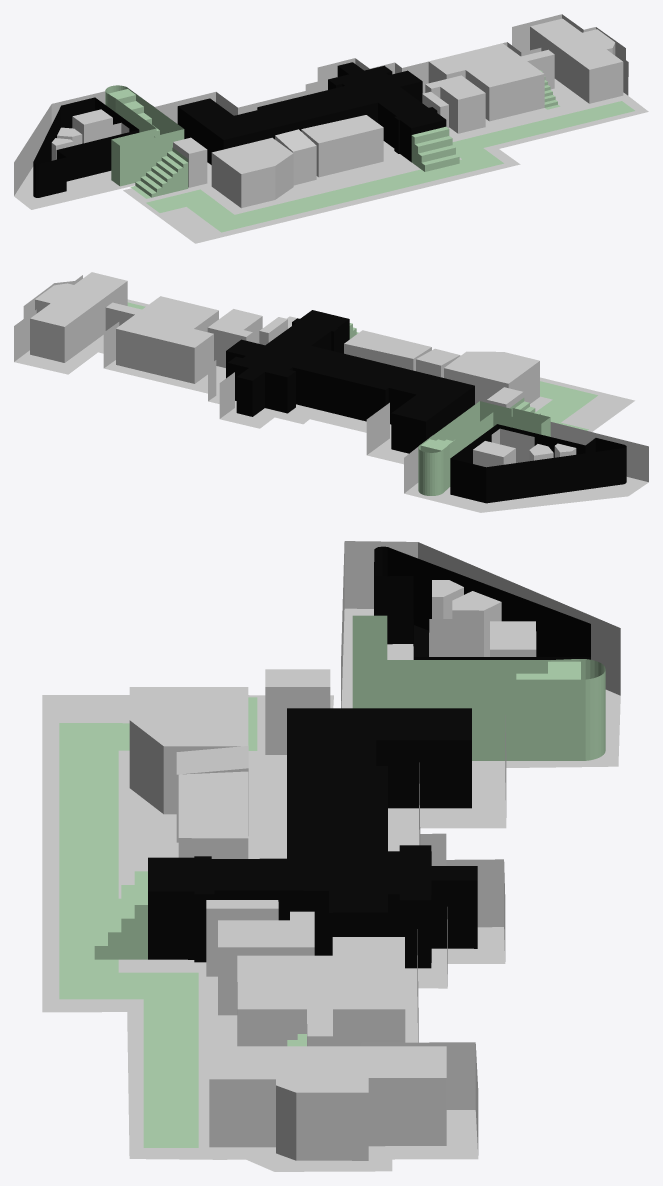
Rendered from basement.glb.
3 renders of one model, top to bottom at view 1: azimuth 30°, elevation 25°; view 2: azimuth 150°, elevation 25°; view 3: azimuth 270°, elevation 25°, orthographic. The views are drawn at different scales.
Visible parts, largest first — view 1: disk, ground, path, OFORTOD, CEAPMO, GSO, Traingle, Stairs, BA, COUNCILOR, Cube.003, Cube.001 (+6 smaller); view 2: ground, disk, Traingle, OFORTOD, CEAPMO, Stairs, GSO, BA, COUNCILOR, path, DAYCARE, SPORTS (+3 smaller); view 3: disk, ground, path, CEAPMO, Stairs, OFORTOD, GSO, Traingle, BA, COUNCILOR, Cube.003, PWD (+6 smaller).
Boxes of the visible parts, box(x1,y1,x2,y2) form: disk: box(14, 14, 648, 243); ground: box(177, 62, 446, 164); path: box(146, 101, 634, 232); OFORTOD: box(428, 43, 554, 121); CEAPMO: box(530, 18, 623, 103); GSO: box(211, 137, 293, 208); Traingle: box(33, 97, 139, 197); Stairs: box(105, 85, 184, 186); BA: box(301, 115, 383, 177); COUNCILOR: box(425, 75, 485, 133); Cube.003: box(411, 126, 462, 174); Cube.001: box(130, 147, 188, 198); ground: box(226, 310, 474, 453); disk: box(14, 275, 648, 512); Traingle: box(450, 424, 626, 503); OFORTOD: box(105, 296, 218, 383); CEAPMO: box(30, 272, 127, 362); Stairs: box(418, 401, 550, 495); GSO: box(444, 351, 539, 404); BA: box(344, 330, 431, 370); COUNCILOR: box(207, 309, 262, 367); path: box(127, 302, 597, 430); DAYCARE: box(473, 441, 515, 467); SPORTS: box(491, 428, 534, 462); disk: box(42, 541, 620, 1171); ground: box(148, 708, 477, 968); path: box(59, 697, 257, 1147); CEAPMO: box(209, 1046, 446, 1160); Stairs: box(352, 615, 605, 760); OFORTOD: box(237, 937, 405, 1046); GSO: box(129, 687, 248, 814); Traingle: box(374, 546, 590, 659); BA: box(178, 771, 248, 858); COUNCILOR: box(218, 911, 314, 1015); Cube.003: box(81, 871, 147, 959); PWD: box(265, 669, 330, 754).
Bounding box in the file's own units: 4.61 × 0.3155 × 2.
